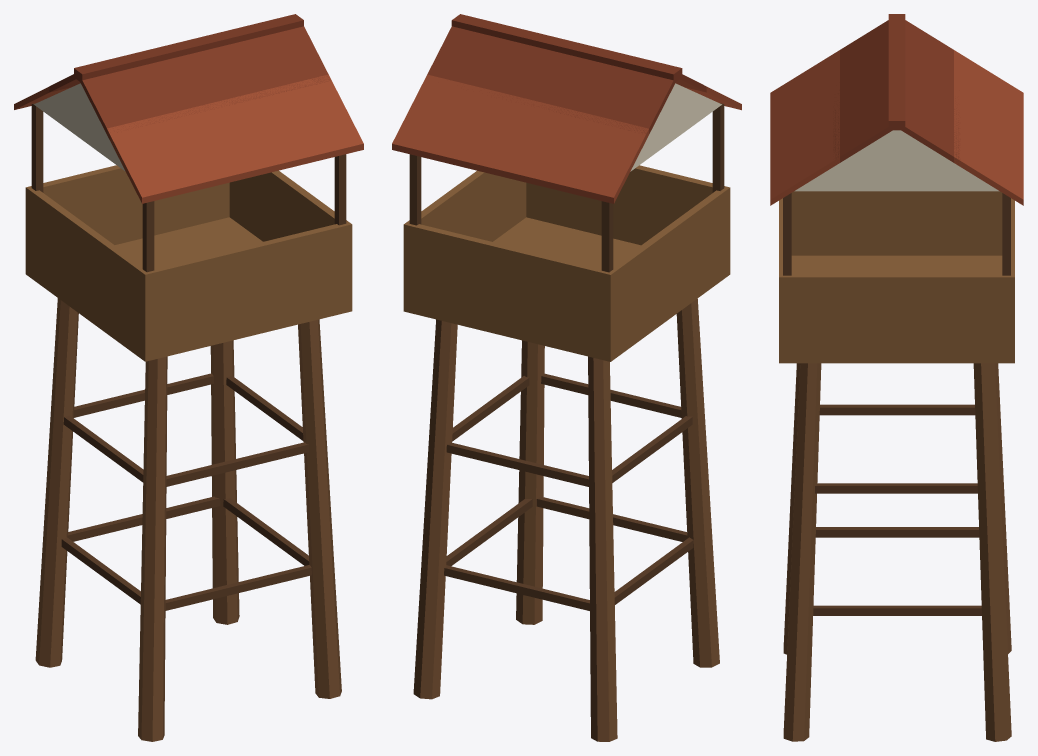
Rendered from watchtower.glb.
3 renders of one model, left to right at view 1: azimuth 30°, elevation 25°; view 2: azimuth 150°, elevation 25°; view 3: azimuth 270°, elevation 25°, orthographic.
Parts seen in each view (by area): view 1: watchtower; view 2: watchtower; view 3: watchtower.
Part boxes in pixels (<box>): watchtower: <box>14,14,363,741</box>; watchtower: <box>392,14,741,741</box>; watchtower: <box>770,14,1023,741</box>.
Size of the model in its own units: 3 by 8.2 by 3.
